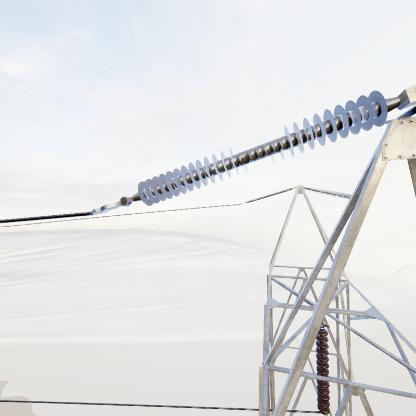insulator: (131, 86, 391, 209), (313, 328, 333, 415)
